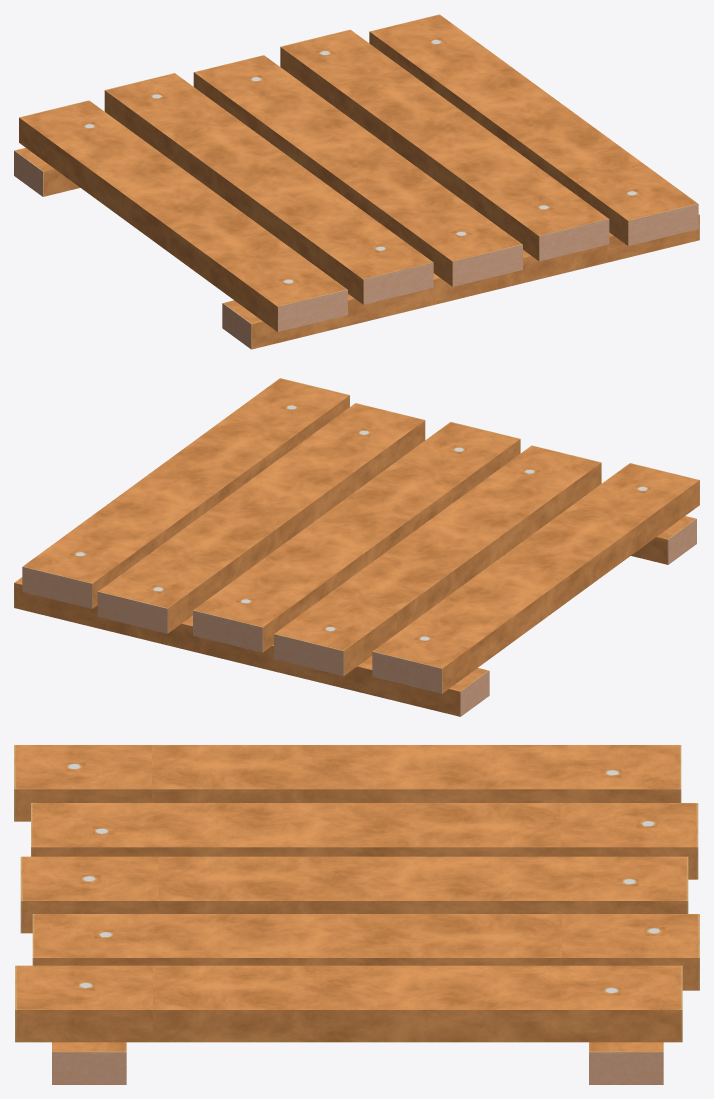
File: BrokenPallet_2.fbx
The picture shows the model from 3 angles, top to bottom: view 1: azimuth 30°, elevation 25°; view 2: azimuth 150°, elevation 25°; view 3: azimuth 270°, elevation 25°; orthographic projection. The views are drawn at different scales.
Parts seen in each view (by area): view 1: PalletCube_11, PalletCube_12; view 2: PalletCube_12, PalletCube_11; view 3: PalletCube_12, PalletCube_11.
Boxes of the visible parts, x1,y1,x2,y2 form: PalletCube_11: (186, 91, 699, 349); PalletCube_12: (14, 14, 544, 264); PalletCube_12: (14, 490, 608, 716); PalletCube_11: (128, 378, 699, 571); PalletCube_12: (249, 745, 699, 1084); PalletCube_11: (14, 745, 410, 1084).
Bounding box in the file's own units: 0.9842 × 0.1058 × 1.01.
